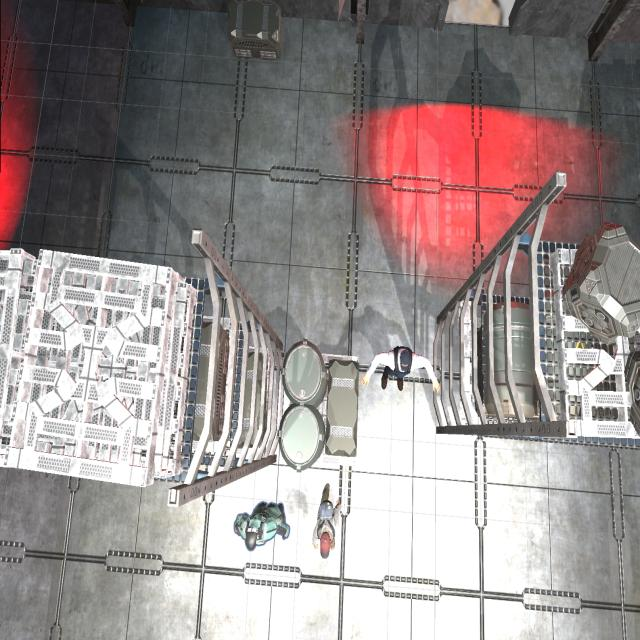thiefs: (310, 482, 343, 562)
